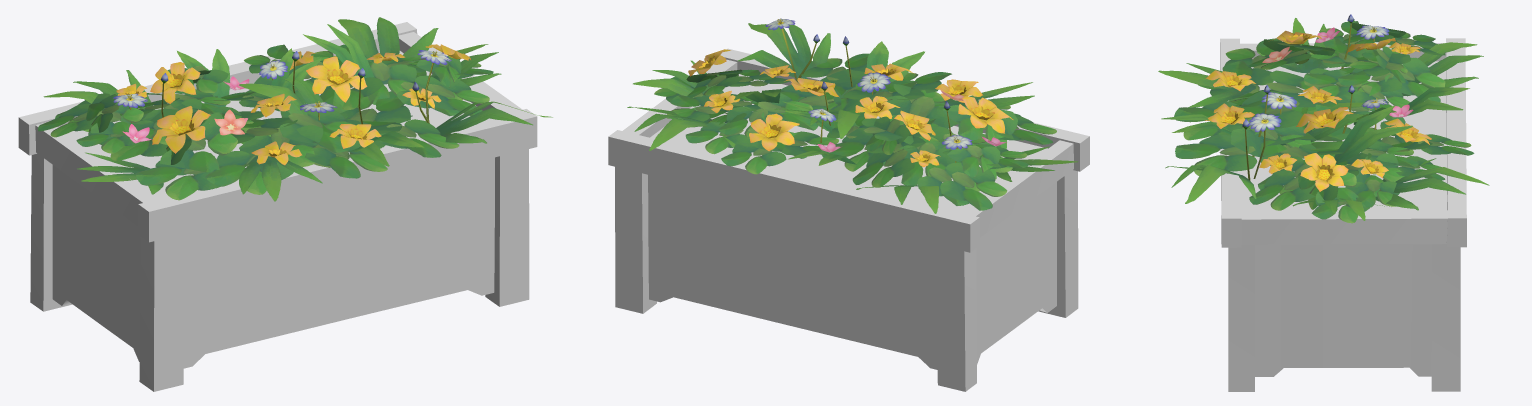
File: Parterre_Single.fbx
3 renders of one model, left to right at view 1: azimuth 30°, elevation 25°; view 2: azimuth 150°, elevation 25°; view 3: azimuth 270°, elevation 25°, orthographic. The views are drawn at different scales.
Parts seen in each view (by area): view 1: Mesh_0107.016; view 2: Mesh_0107.016; view 3: Mesh_0107.016.
Part boxes in pixels (left/top/right/bottom): Mesh_0107.016: left=18, top=17, right=552, bottom=391; Mesh_0107.016: left=608, top=18, right=1089, bottom=391; Mesh_0107.016: left=1158, top=14, right=1489, bottom=391.
Size of the model in its own units: 149 by 80.67 by 116.
